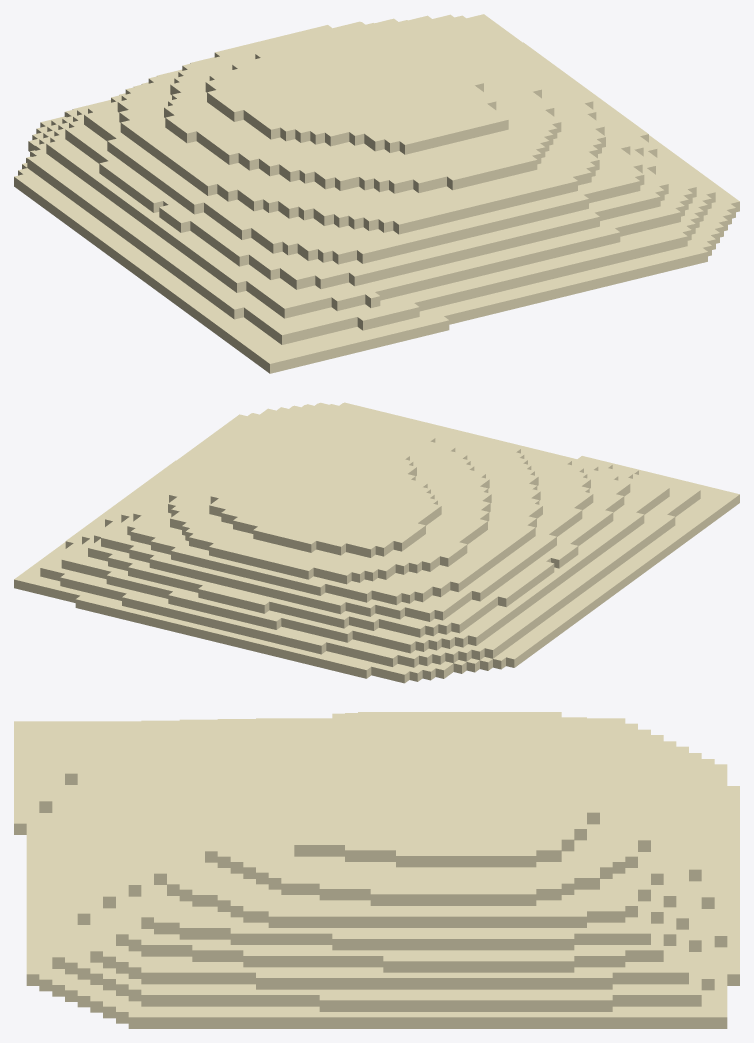
Rendered from BoneDust.fbx.
3 views of the same model, one above another, from view 1: azimuth 30°, elevation 25°; view 2: azimuth 150°, elevation 25°; view 3: azimuth 270°, elevation 25° (orthographic). The views are drawn at different scales.
Parts seen in each view (by area): view 1: Dust; view 2: Dust; view 3: Dust.
Boxes of the visible parts, x1,y1,x2,y2 form: Dust: [14, 14, 739, 373]; Dust: [14, 402, 739, 683]; Dust: [14, 712, 739, 1028].
Size of the model in its own units: 0.2969 by 0.3077 by 0.0432.
